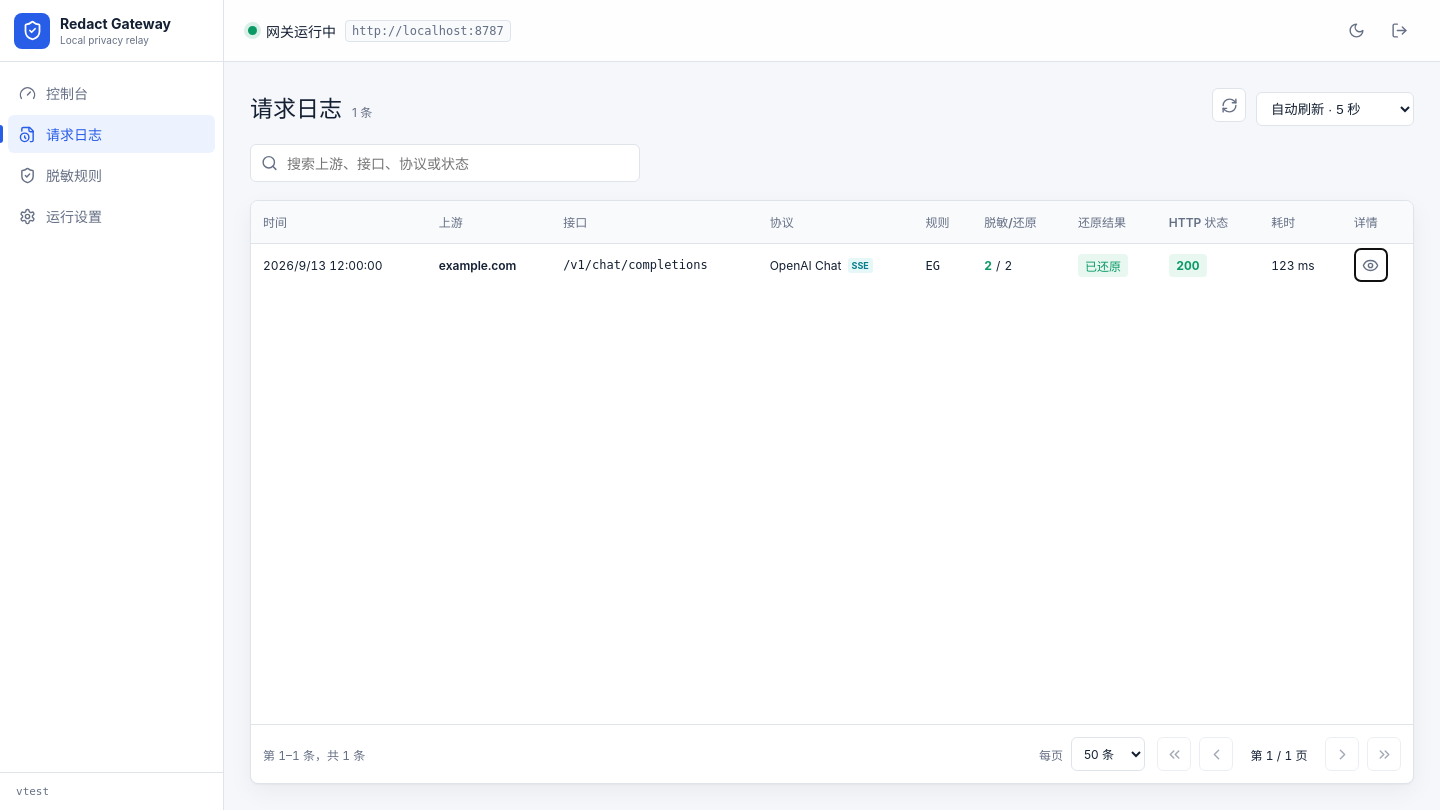
Test: App › keeps keyboard focus in the dialog and restores it after Escape
Step 1. Click the button named "查看请求 request-one 的详情" → {"x": 1371, "y": 265}, box [1354, 248, 1388, 282]
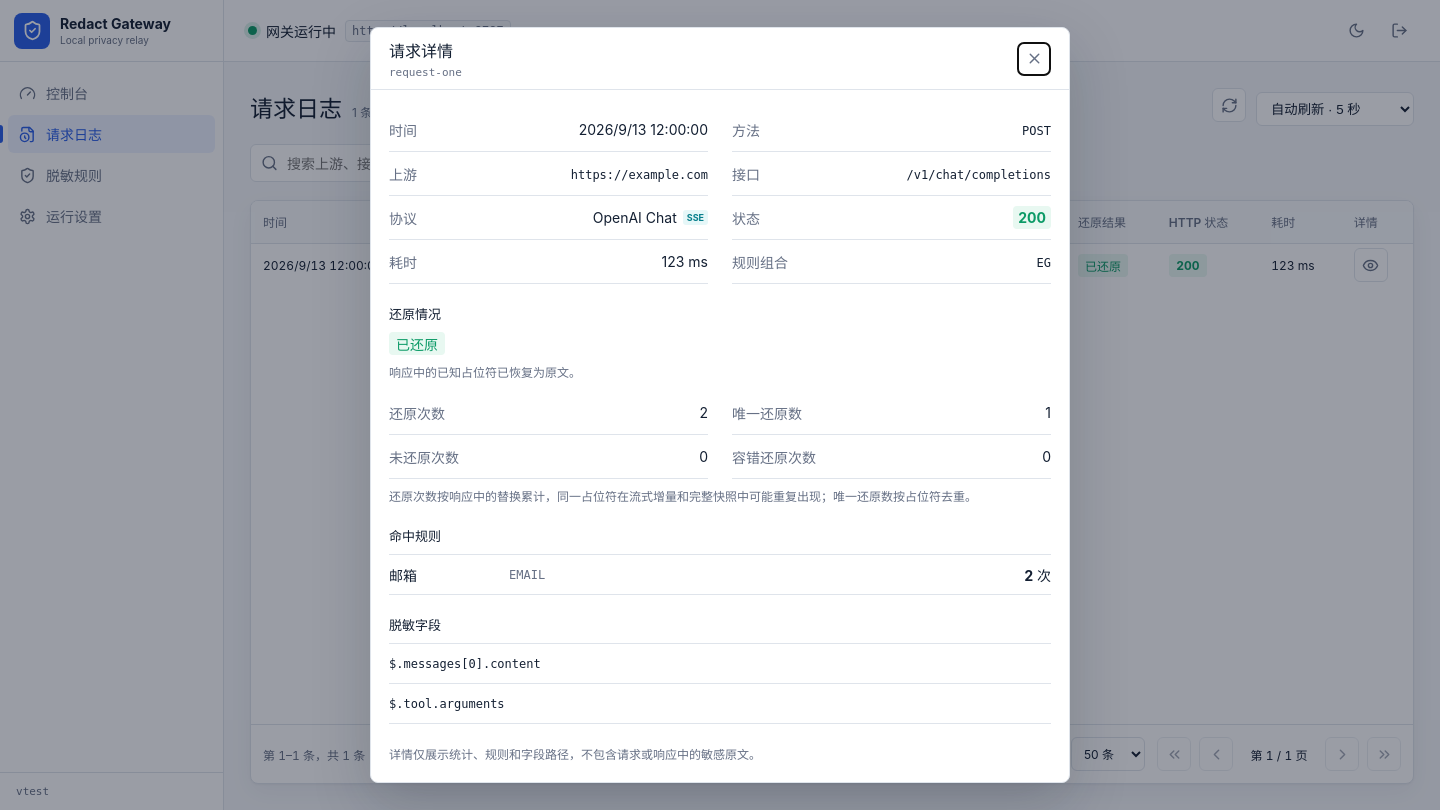
Step 2. Press Tab in the button named "关闭请求详情", box [1017, 42, 1051, 76]
Step 3. Press Tab in the button named "关闭请求详情", box [1017, 42, 1051, 76]
Step 4. Press Escape in the button named "关闭请求详情", box [1017, 42, 1051, 76]
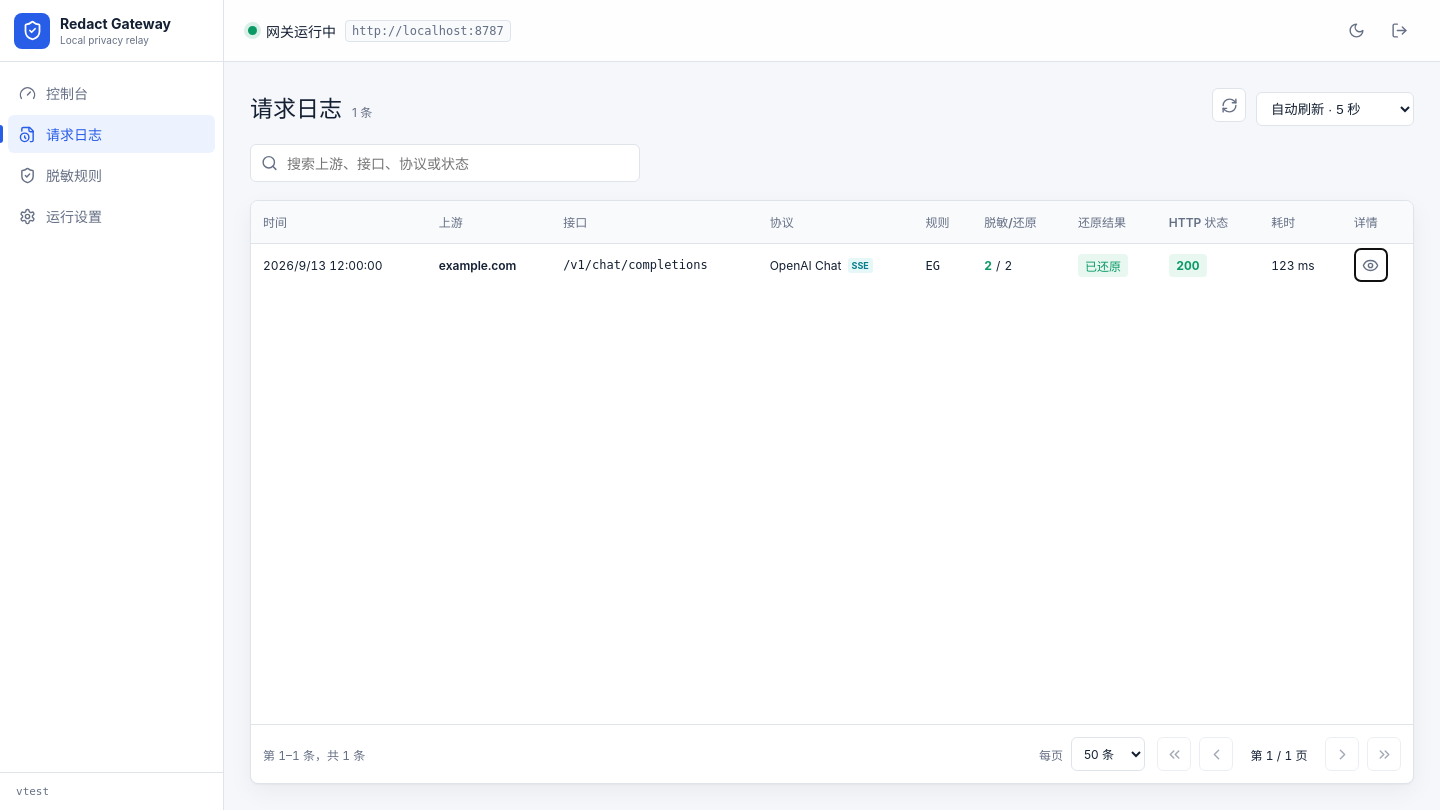
Expected: the dialog is gone
